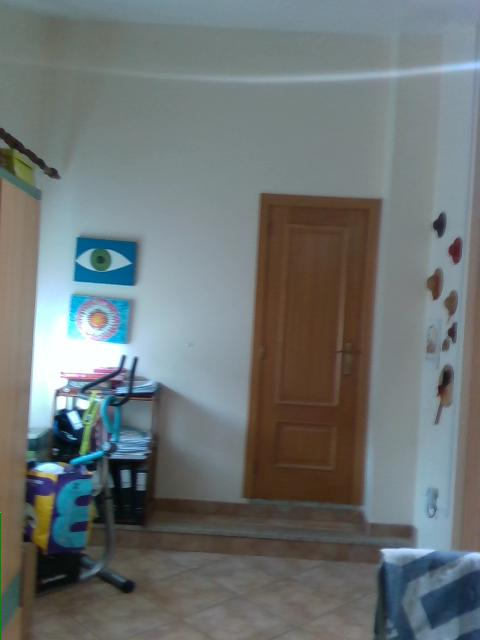door: (253, 205, 369, 507)
